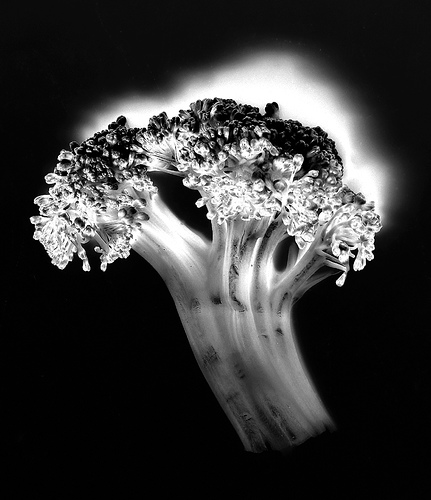broccoli: (30, 96, 383, 455)
